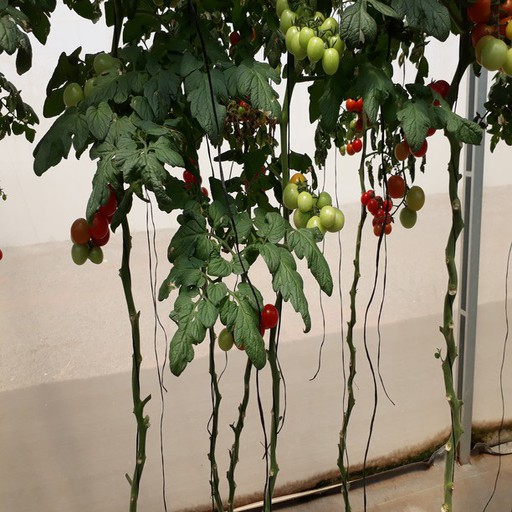green tomato bunch: (275, 1, 346, 73), (282, 184, 344, 241), (63, 53, 124, 107)
mixed tomato bunch: (470, 1, 512, 79), (345, 93, 370, 154), (232, 98, 268, 132)
red tomato bunch: (398, 81, 451, 157), (71, 185, 124, 261), (219, 302, 278, 355), (362, 188, 394, 237), (180, 169, 207, 205)
